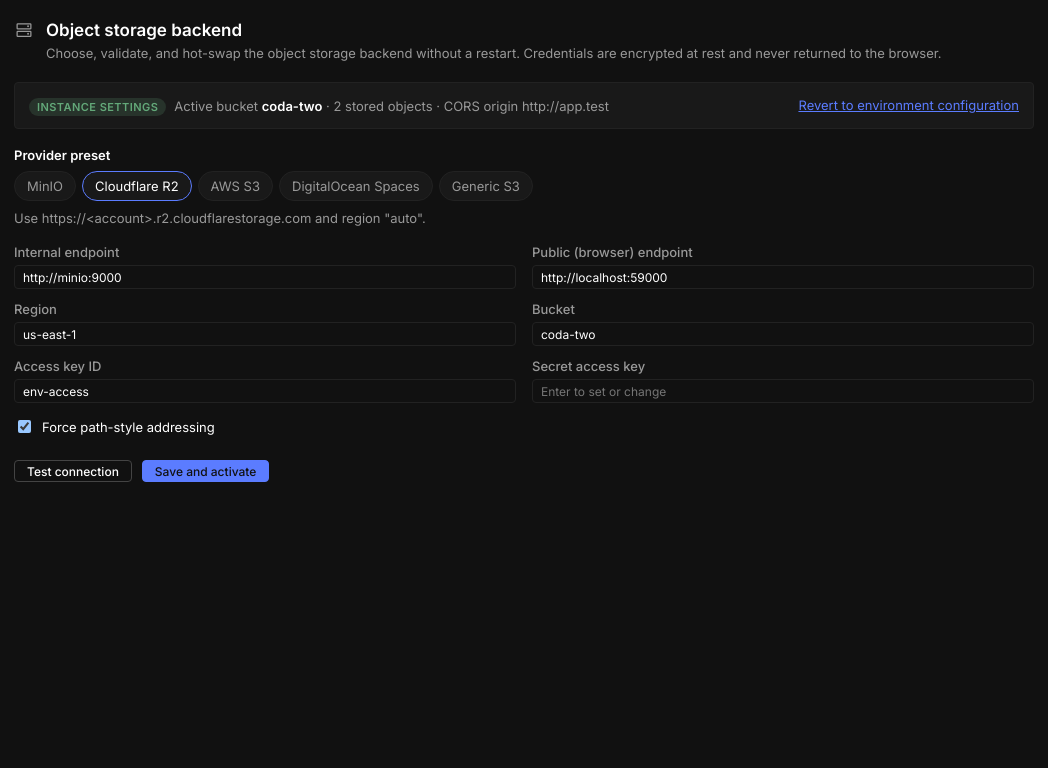
Test: StorageSection › shows a revert action for a settings-sourced backend and reverts to the environment
Click the button "Revert to environment configuration" at x=909, y=105, box [798, 97, 1019, 113]
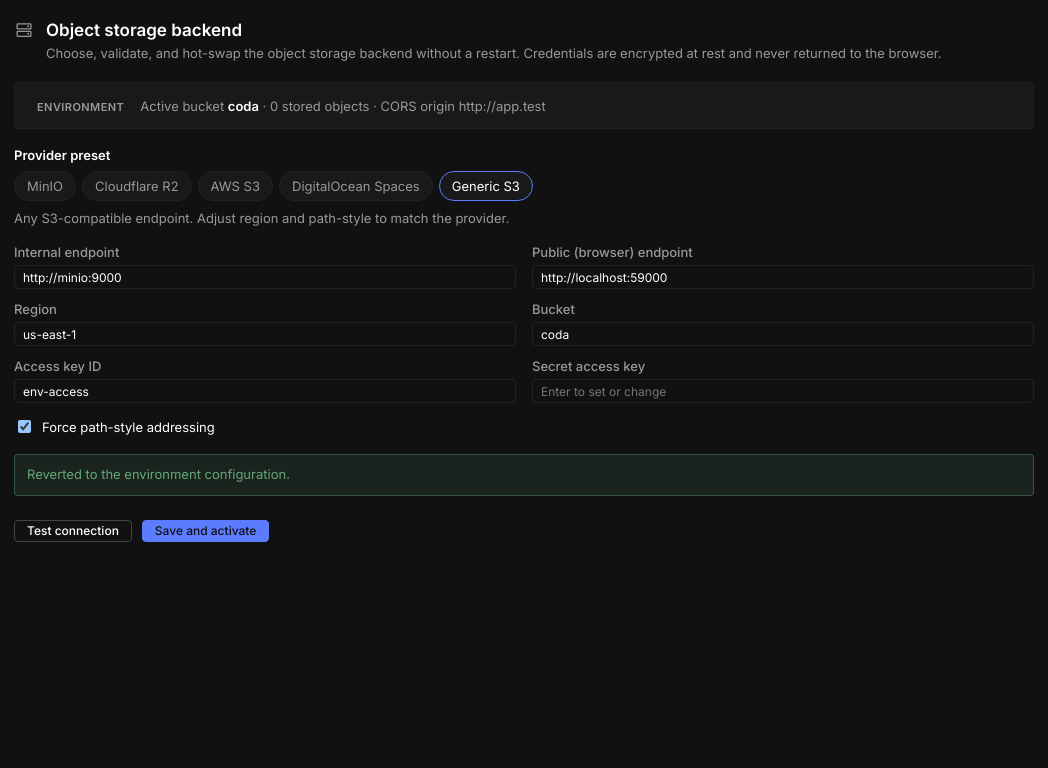
Check: the text "Reverted to the environment configuration." is shown, box [14, 454, 1034, 496]
Check: the text "Environment" is shown, box [29, 98, 132, 116]
